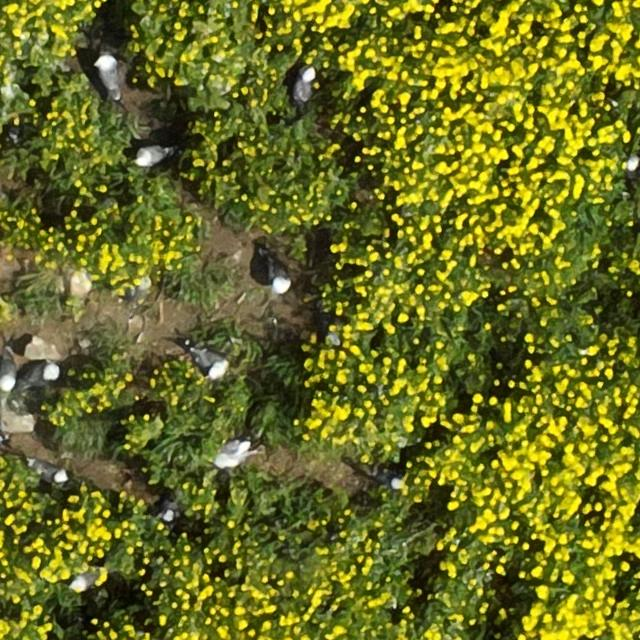umineko: (96, 54, 118, 95), (193, 349, 225, 377), (216, 439, 248, 466), (293, 68, 315, 105), (31, 462, 67, 484), (268, 258, 289, 292), (25, 364, 56, 386), (136, 146, 170, 166), (71, 571, 101, 591), (0, 355, 15, 389)
